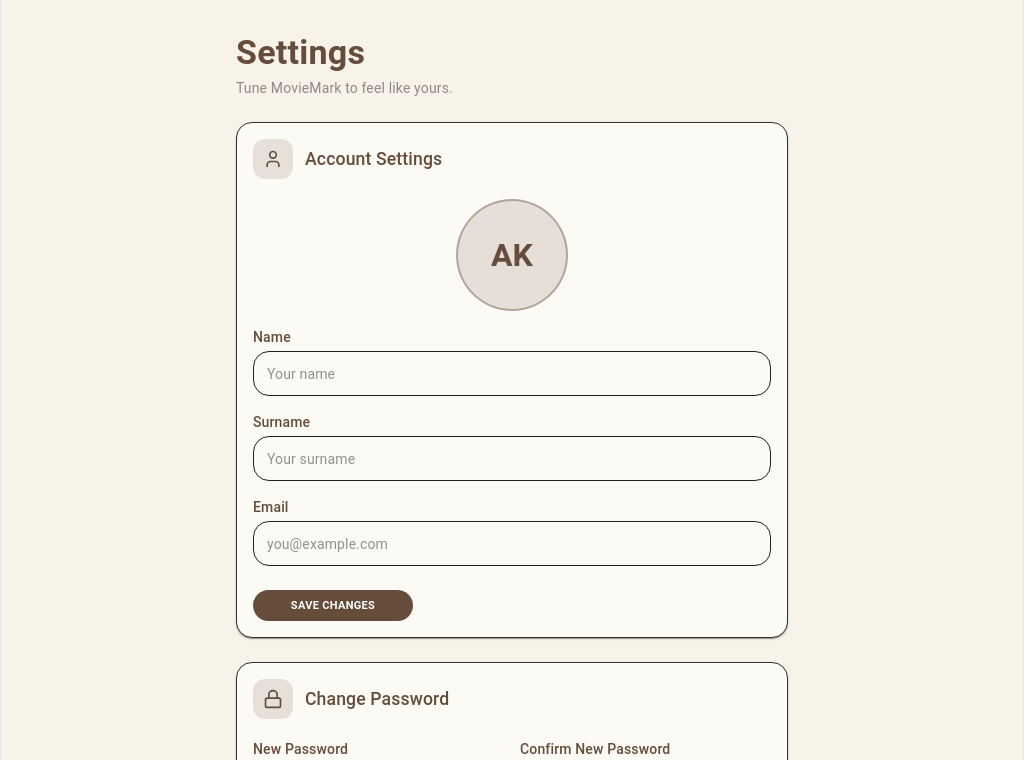
SettingsPage profile form › submits the profile update and shows a success message
The width and height of the screenshot is (1024, 760).
In the field with placeholder "Your name": [512, 374] box top-left (253, 347), bottom-right (771, 400), type "Anna"
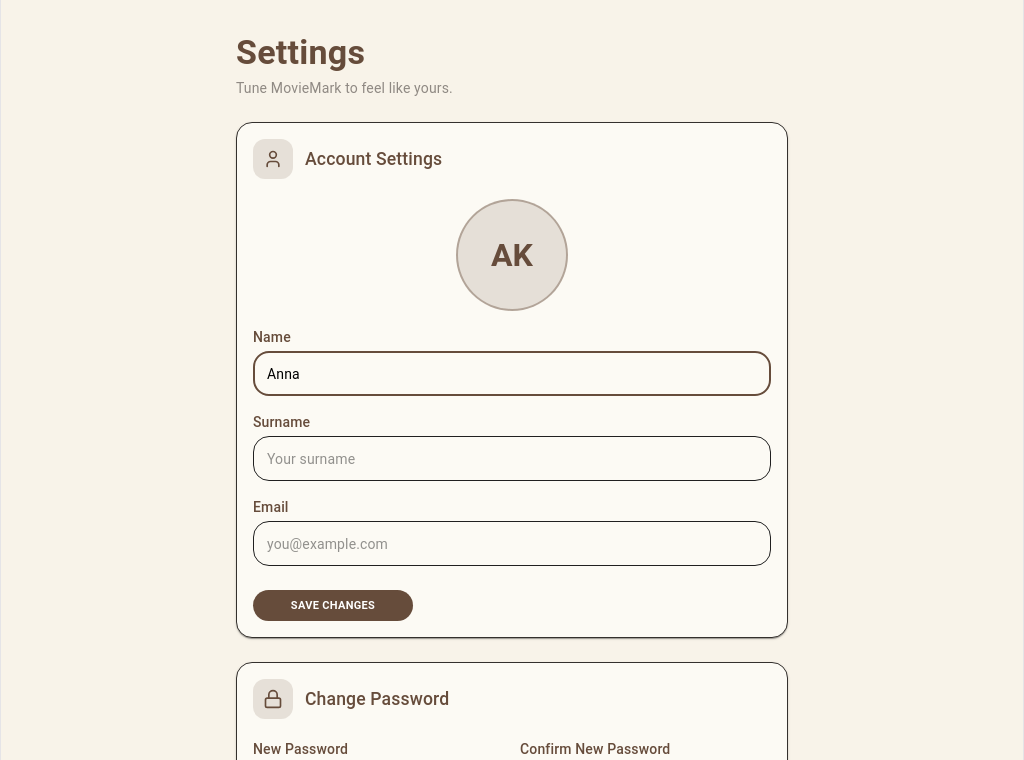
In the field with placeholder "Your surname": [512, 459] box top-left (253, 432), bottom-right (771, 485), type "Nowak"
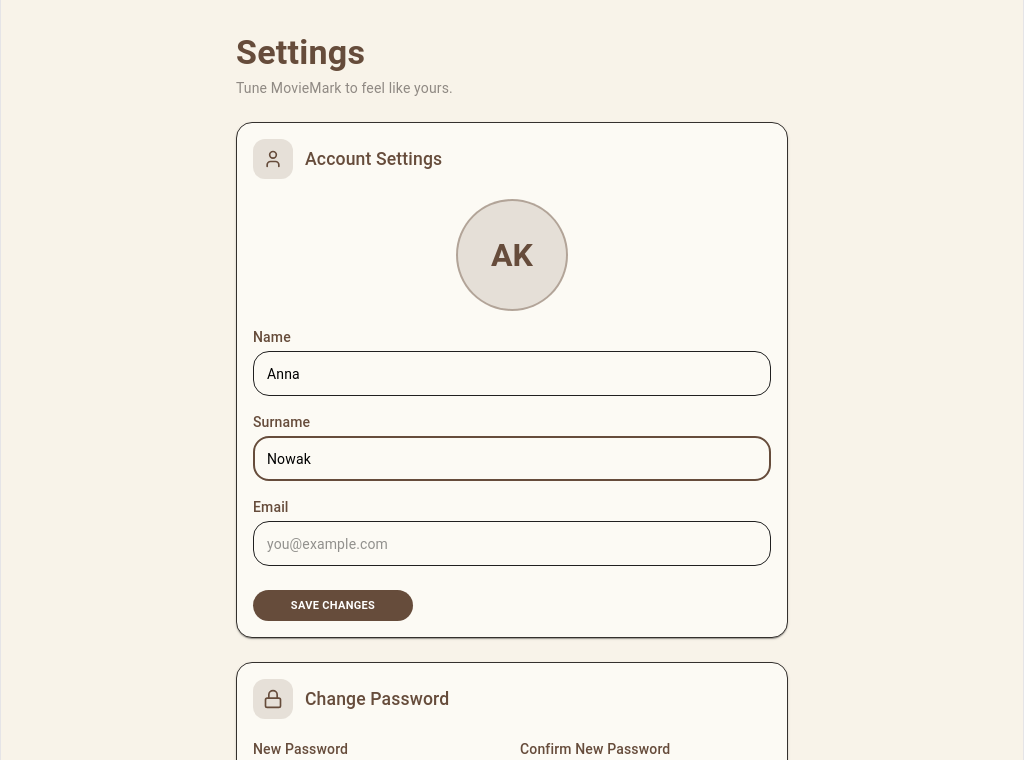
In the field with placeholder "you@example.com": [512, 544] box top-left (253, 517), bottom-right (771, 570), type "anna@test.com"
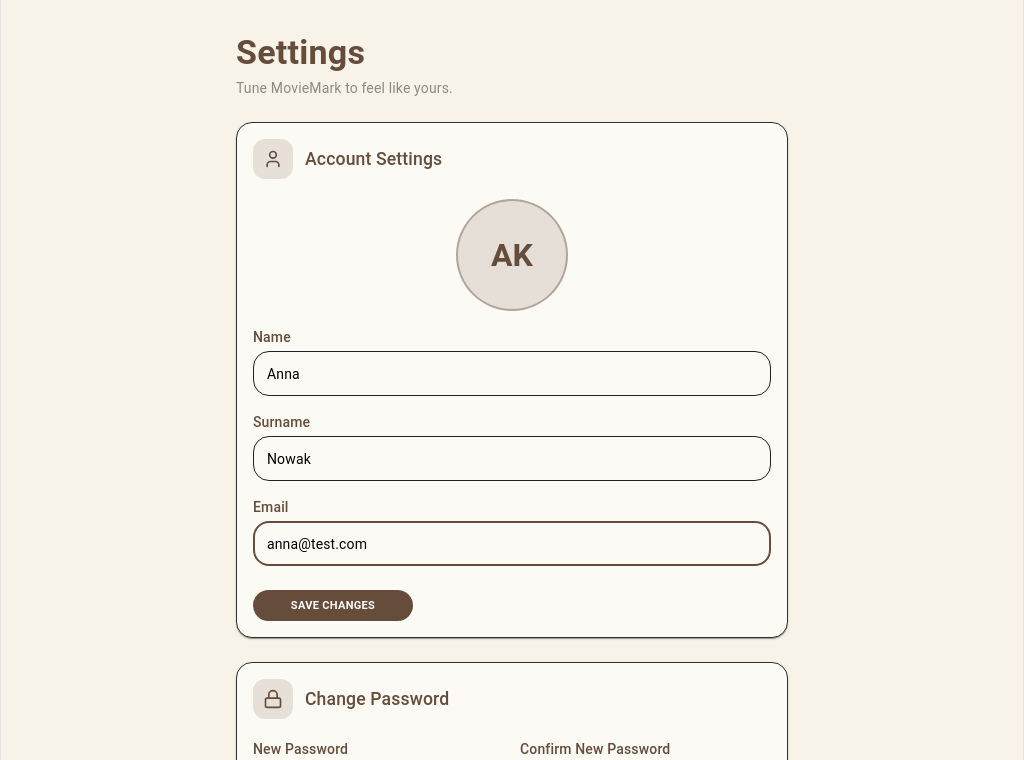
Click the button "Save Changes": [333, 606] box top-left (253, 590), bottom-right (413, 621)
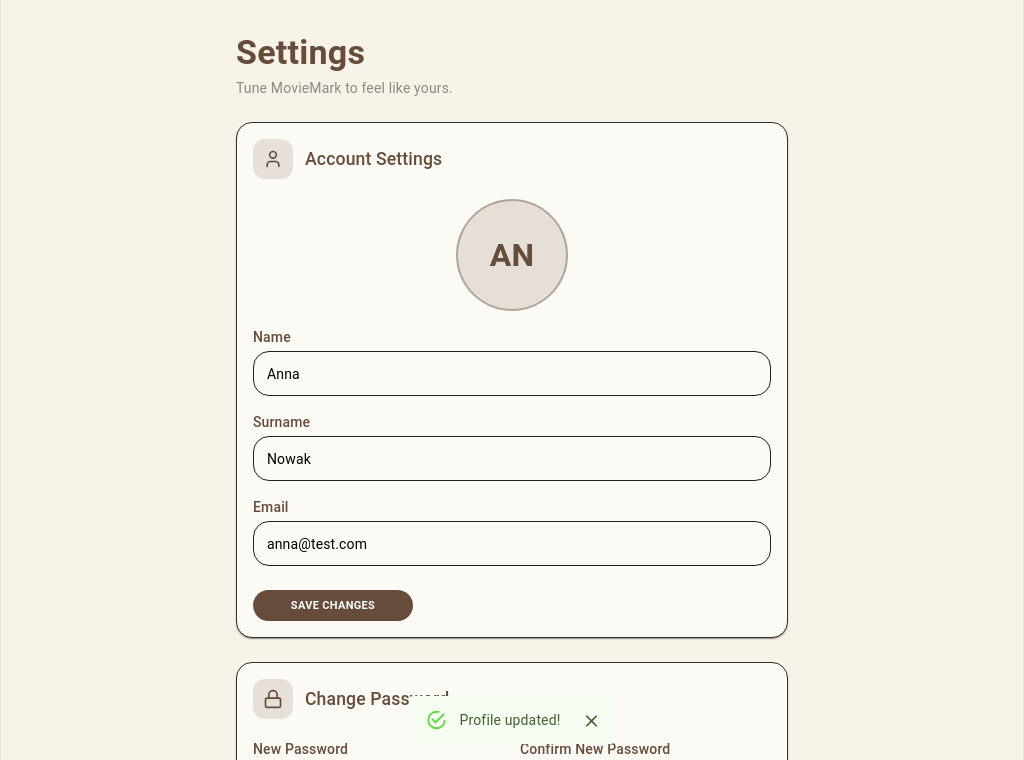
Now the text "Profile updated!" is shown, box top-left (460, 712), bottom-right (560, 728)
